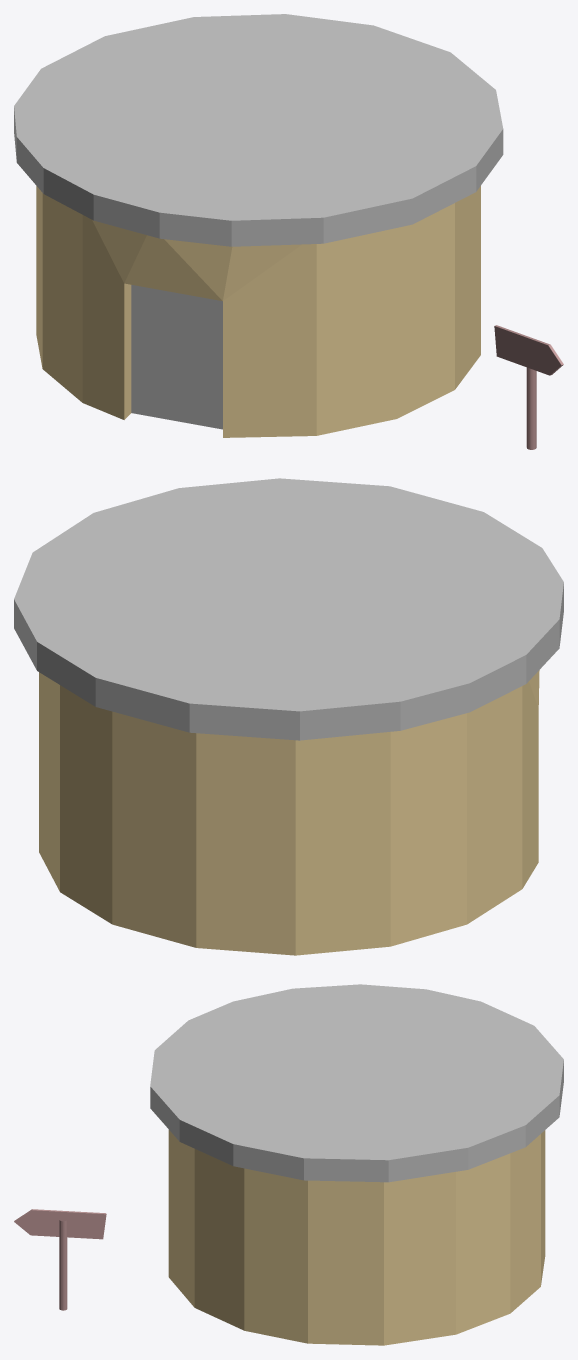
3 views of the same model, one above another, from view 1: azimuth 30°, elevation 25°; view 2: azimuth 150°, elevation 25°; view 3: azimuth 270°, elevation 25° (orthographic). The views are drawn at different scales.
Visible parts, largest first — view 1: p; view 2: p; view 3: p.
Boxes of the visible parts, x1=… form: p: x1=14, y1=14, x2=563, y2=449; p: x1=14, y1=478, x2=563, y2=955; p: x1=14, y1=984, x2=563, y2=1345.
Bounding box in the file's own units: 6.63 × 3.42 × 8.77.
